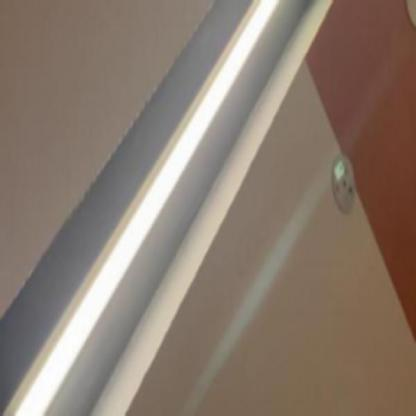light_on: (0, 0, 330, 416)
